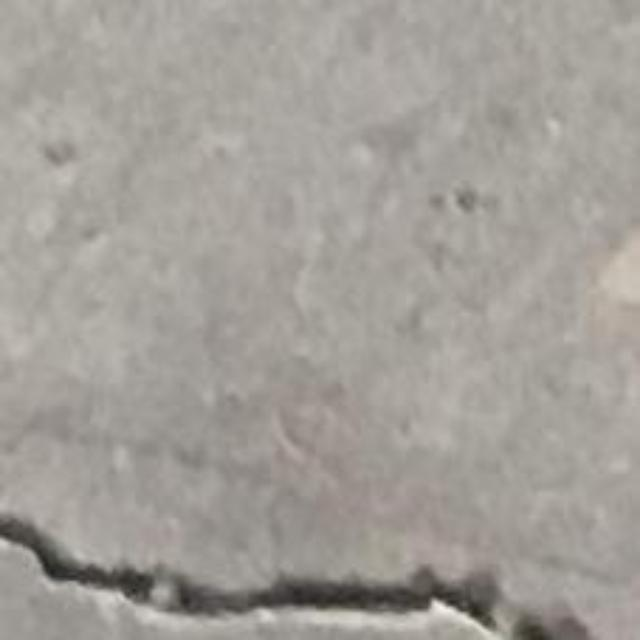crack: (0, 514, 592, 639)
